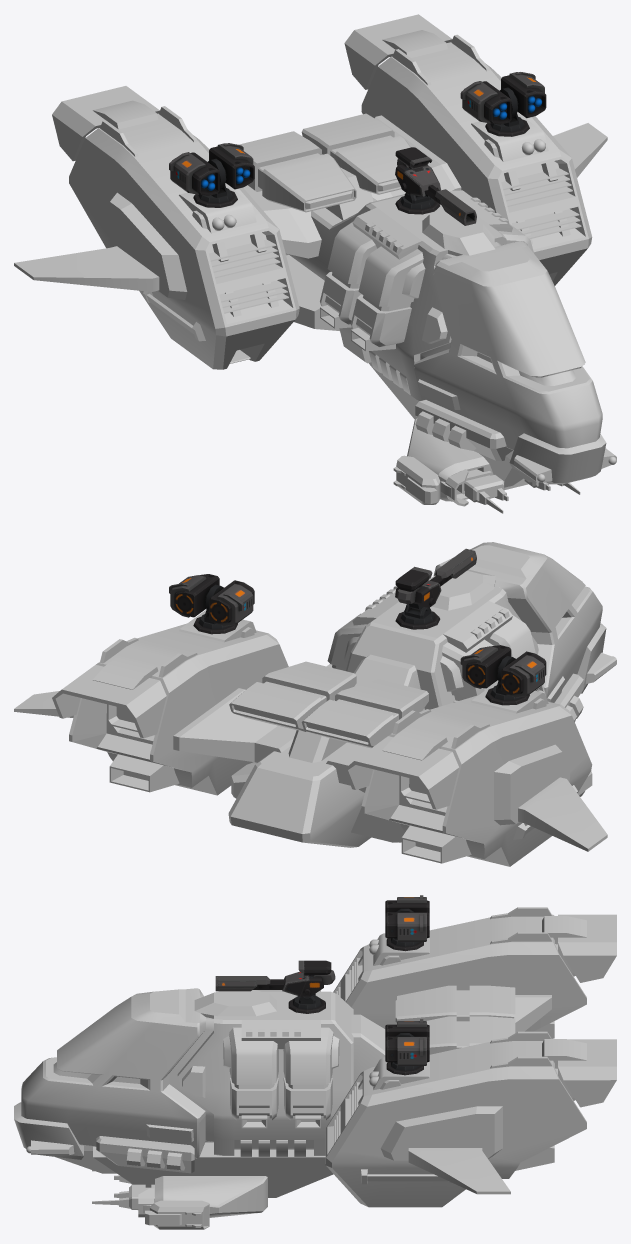
Rendered from Frigate_blue.FBX.
The picture shows the model from 3 angles, top to bottom: view 1: azimuth 30°, elevation 25°; view 2: azimuth 150°, elevation 25°; view 3: azimuth 270°, elevation 25°; orthographic projection. The views are drawn at different scales.
Parts seen in each view (by area): view 1: Frigate, Arcade1_MissilesLaunch014, Arcade1_MissilesLaunch013, Arcade1_CanonX003, Arcade2_MissilesLaunch014, Arcade2_MissilesLaunch013, Arcade2_CanonX003; view 2: Frigate, Arcade1_MissilesLaunch013, Arcade1_MissilesLaunch014, Arcade1_CanonX003, Arcade2_CanonX003, Arcade2_MissilesLaunch014, Arcade2_MissilesLaunch013; view 3: Frigate, Arcade1_CanonX003, Arcade1_MissilesLaunch014, Arcade1_MissilesLaunch013, Arcade2_CanonX003.
Part boxes in pixels (x1,y1,x2,y2): Frigate: (14,14,616,513); Arcade1_MissilesLaunch014: (169,143,254,195); Arcade1_MissilesLaunch013: (460,72,546,124); Arcade1_CanonX003: (395,147,476,225); Arcade2_MissilesLaunch014: (193,158,237,207); Arcade2_MissilesLaunch013: (485,87,529,136); Arcade2_CanonX003: (395,193,439,214); Frigate: (14,542,616,866); Arcade1_MissilesLaunch013: (169,574,254,626); Arcade1_MissilesLaunch014: (460,645,546,697); Arcade1_CanonX003: (395,548,476,607); Arcade2_CanonX003: (395,603,440,629); Arcade2_MissilesLaunch014: (485,656,529,705); Arcade2_MissilesLaunch013: (193,584,237,634); Frigate: (14,907,616,1229); Arcade1_CanonX003: (215,960,335,996); Arcade1_MissilesLaunch014: (385,895,429,941); Arcade1_MissilesLaunch013: (385,1019,429,1065); Arcade2_CanonX003: (288,993,325,1013).
Bounding box in the file's own units: 12385 × 12925 × 5623.
